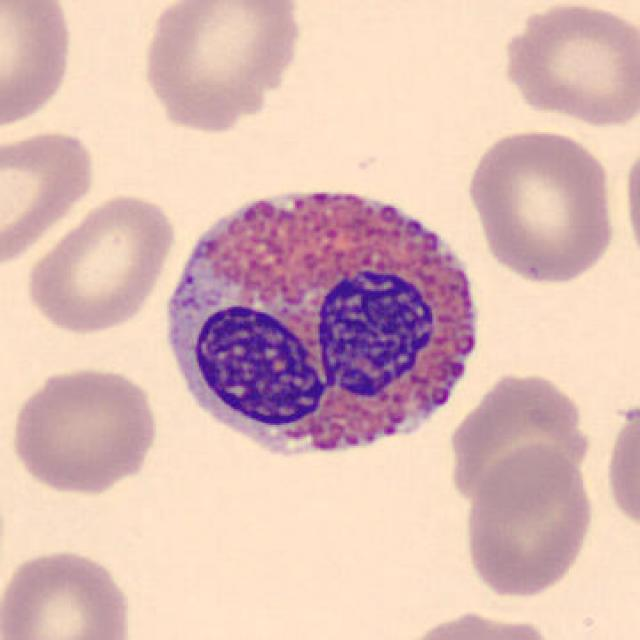Eosinophil: (149, 160, 498, 482)
RBC: (462, 124, 620, 288), (135, 0, 308, 136), (21, 188, 178, 336), (444, 365, 596, 513), (459, 443, 597, 601), (5, 362, 162, 498), (496, 0, 638, 130), (0, 125, 100, 272), (0, 545, 140, 640), (0, 0, 78, 138), (391, 606, 563, 640), (602, 394, 640, 539), (620, 132, 640, 274)
